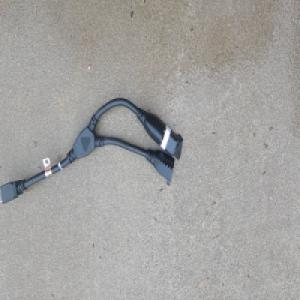Wire: (0, 94, 183, 203)
